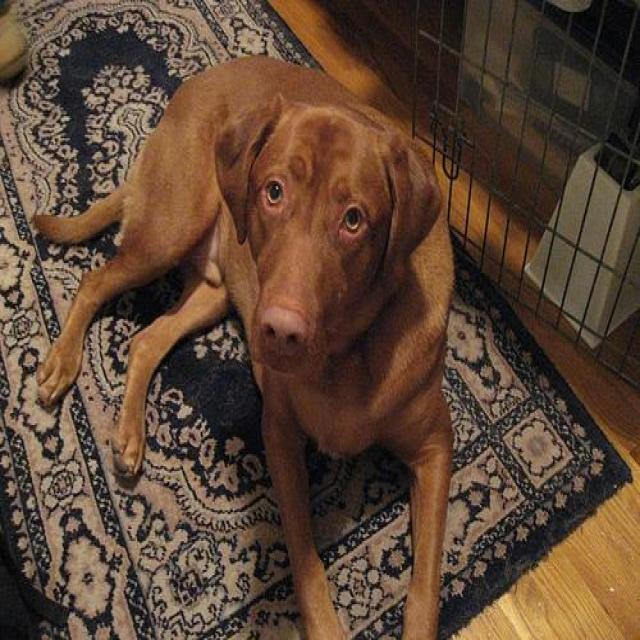vizsla: (33, 60, 457, 638)
